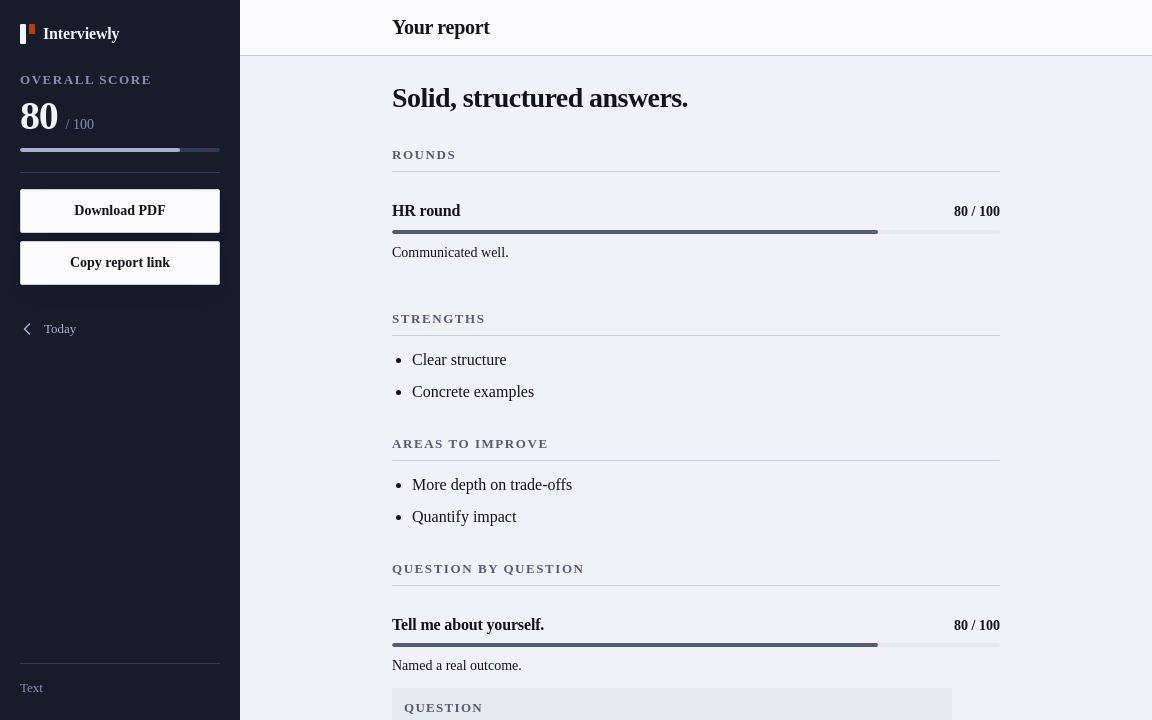
Scenario: report + transcript (W07) › shows an inline "not ready" state on INTERVIEW_NOT_FOUND, never a /not-found redirect
Click the button with test id "report-download" at (120, 211), box [20, 189, 220, 233]
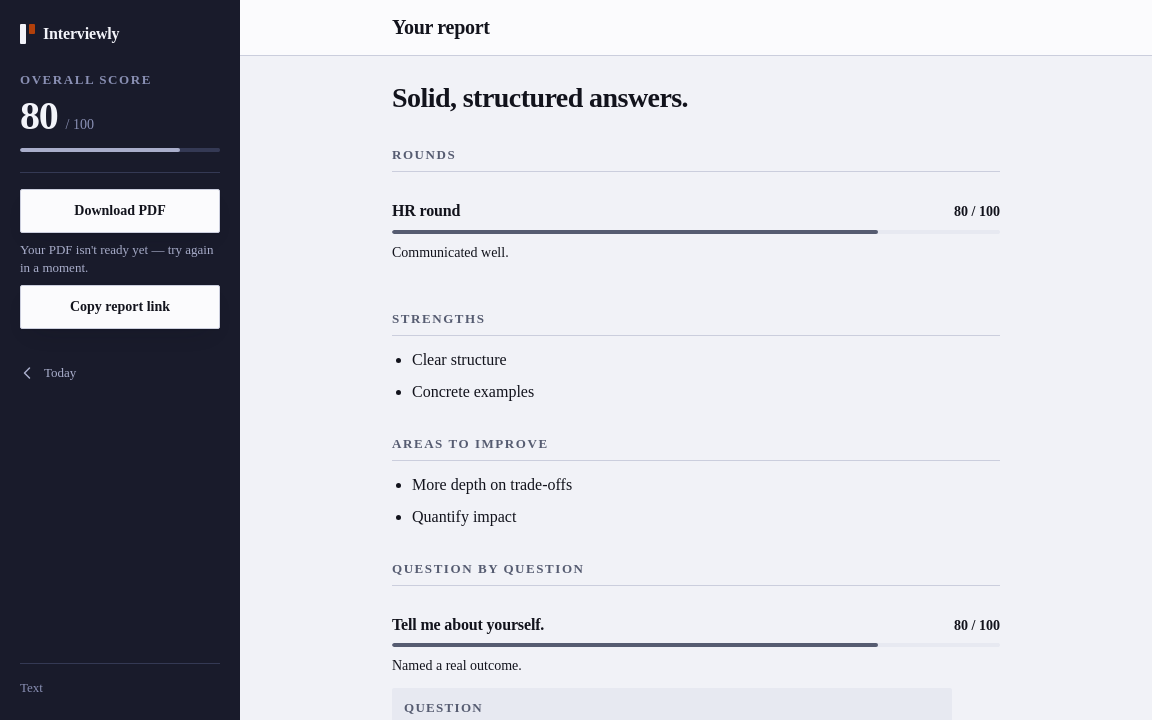
Expected: the message with test id "report-download-not-ready" reads "Your PDF isn't ready yet — try again in a moment.", [20, 242, 214, 275]
